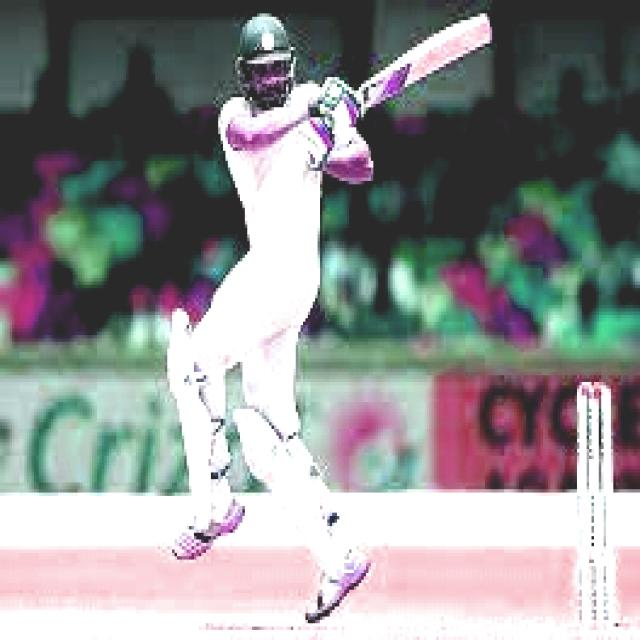toe: (472, 2, 495, 59)
